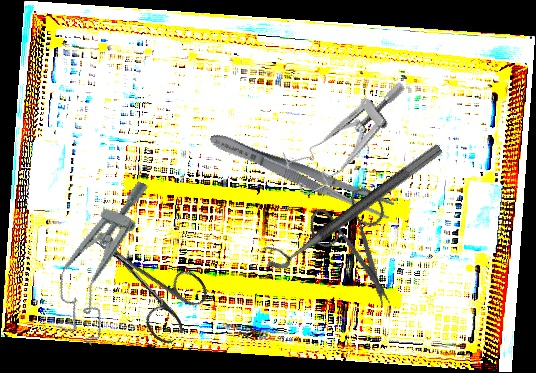Dressing Forceps: (206, 126, 396, 223)
Fixation Ring: (257, 128, 445, 277)
Iris Scissors: (289, 172, 434, 311), (72, 211, 216, 349)
Speculum: (40, 167, 160, 348), (274, 80, 428, 198)
